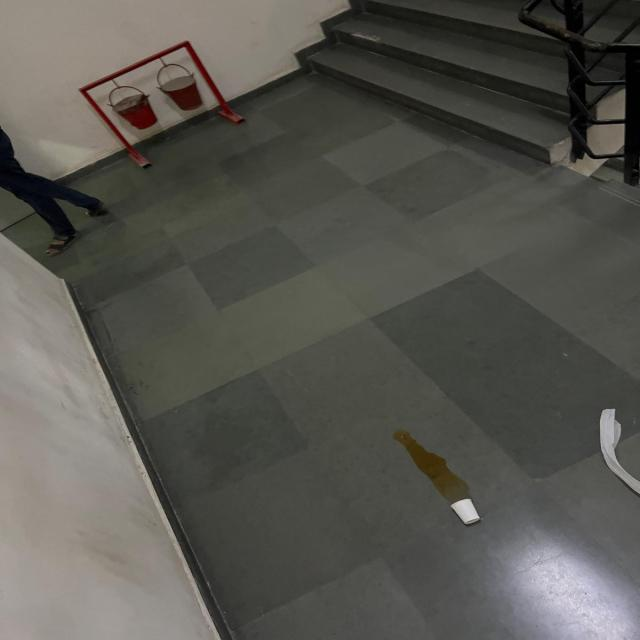cup: (449, 499, 482, 526)
spill: (396, 431, 474, 498)
